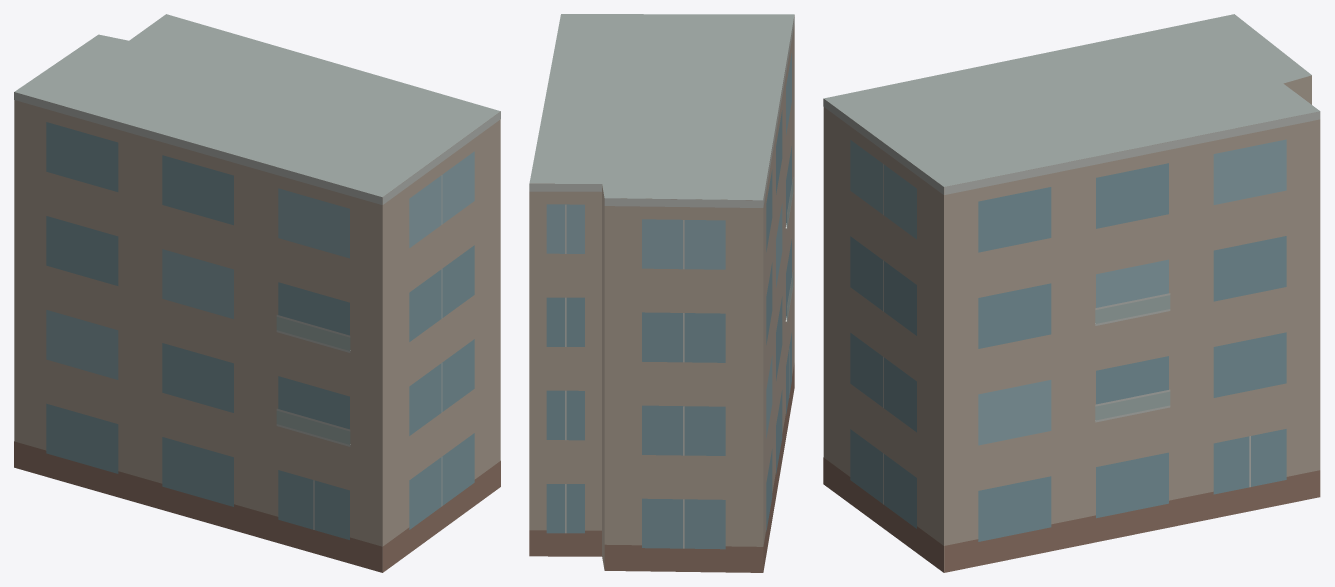
The model's file is survey-upis-32744827.glb.
3 renders of one model, left to right at view 1: azimuth 30°, elevation 25°; view 2: azimuth 150°, elevation 25°; view 3: azimuth 270°, elevation 25°, orthographic. The views are drawn at different scales.
Visible parts, largest first — view 1: survey-upis-32744827.tmp; view 2: survey-upis-32744827.tmp; view 3: survey-upis-32744827.tmp.
Part boxes in pixels (x1,y1,x2,y2): survey-upis-32744827.tmp: (14, 14, 500, 572); survey-upis-32744827.tmp: (529, 14, 794, 572); survey-upis-32744827.tmp: (823, 14, 1320, 572).
Size of the model in its own units: 11.12 by 11.55 by 13.49.
